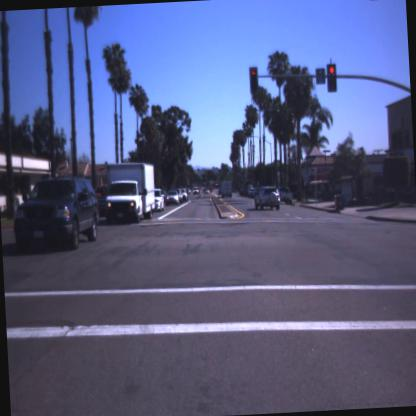trafficlight: (324, 60, 340, 95), (246, 62, 260, 94)
